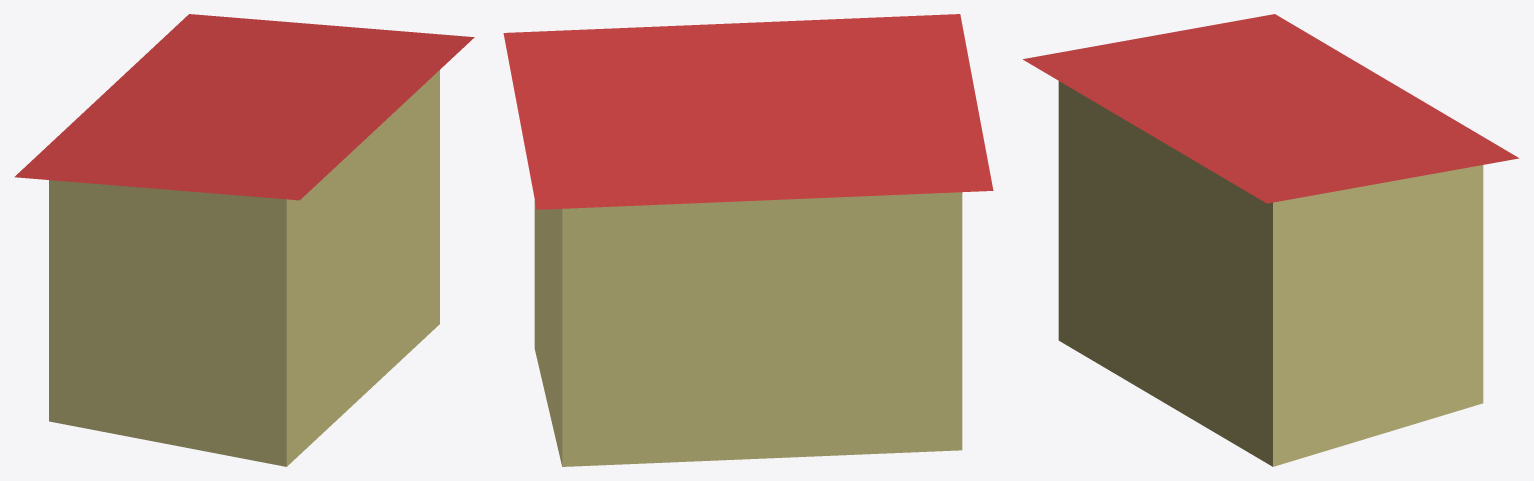
3 views of the same model, side by side, from view 1: azimuth 30°, elevation 25°; view 2: azimuth 150°, elevation 25°; view 3: azimuth 270°, elevation 25° (orthographic). The views are drawn at different scales.
Bounding box in the file's own units: 10.06 × 9.57 × 5.92.
